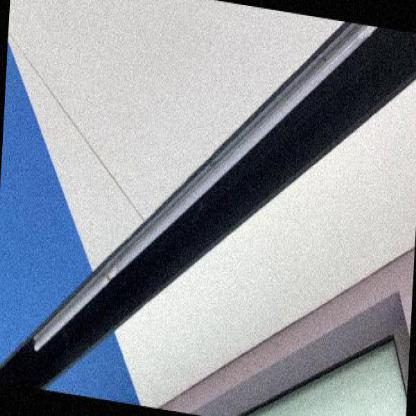light_off: (17, 0, 380, 410)
